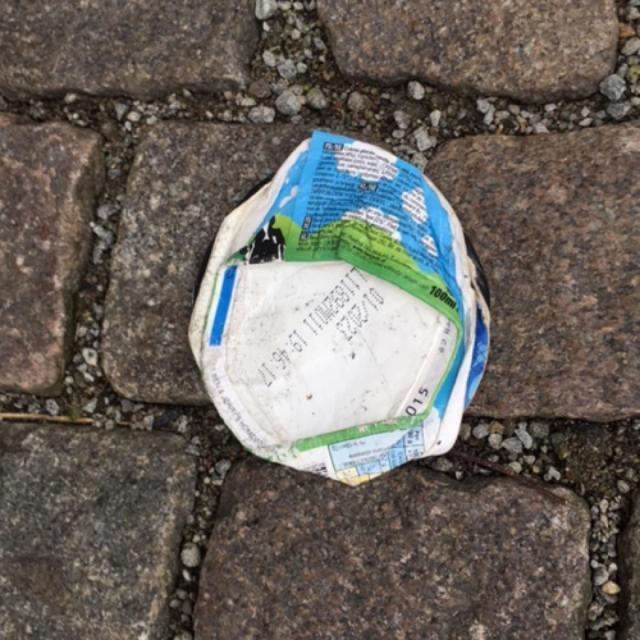Paper: (180, 126, 496, 492)
